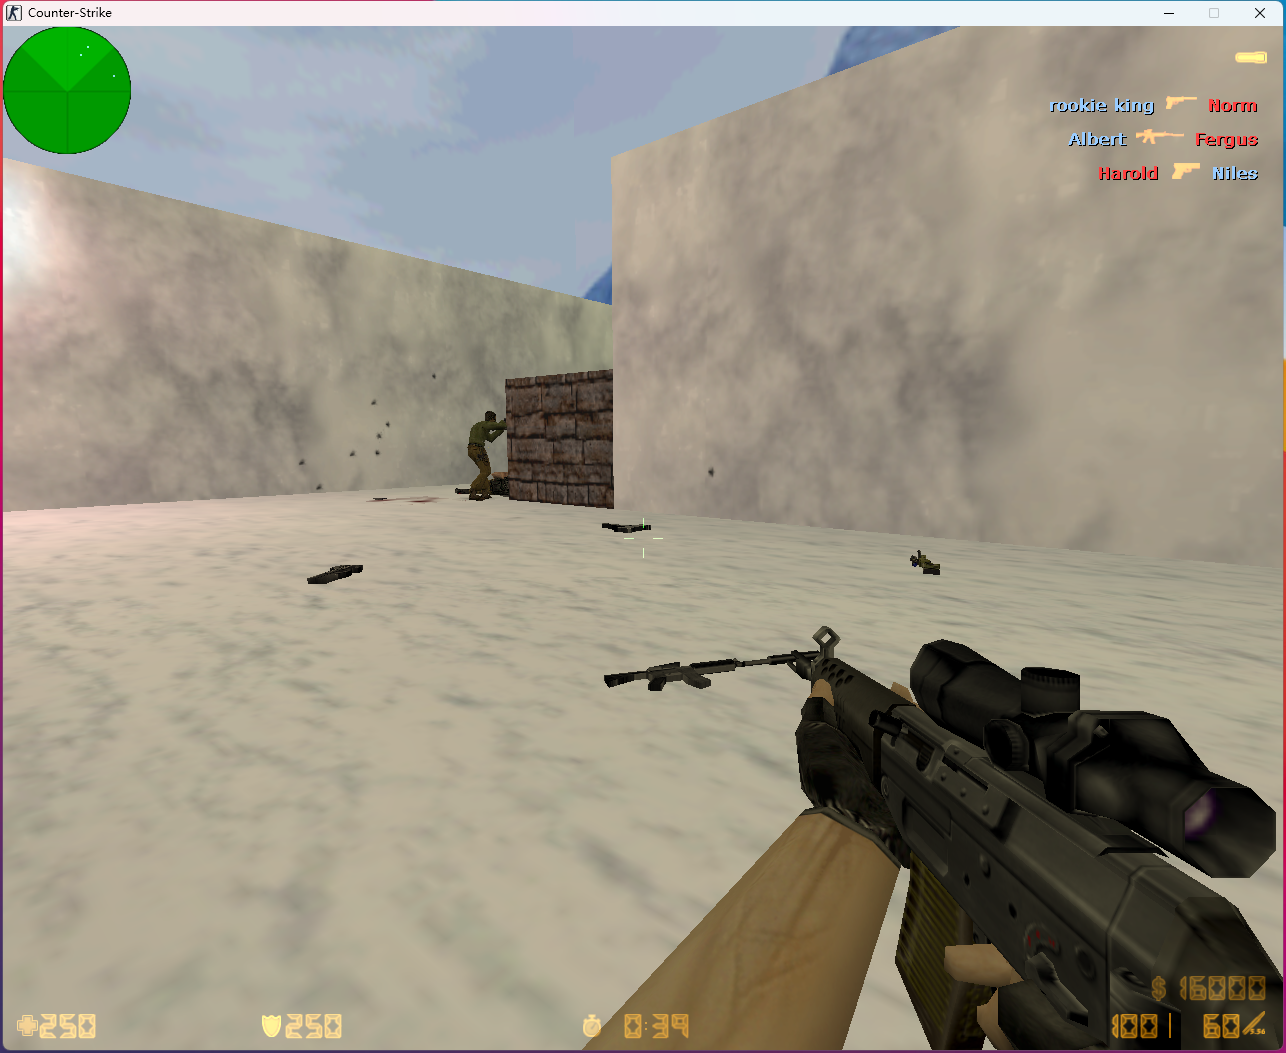T: (466, 412, 506, 501)
weapon: (605, 649, 826, 691), (305, 565, 363, 587), (598, 518, 652, 536), (909, 552, 943, 576)
